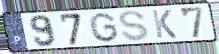7: (178, 6, 206, 39), (59, 13, 83, 47)
9: (27, 13, 58, 49)
G: (88, 12, 120, 44)
K: (150, 9, 179, 39)
S: (118, 10, 151, 43)
